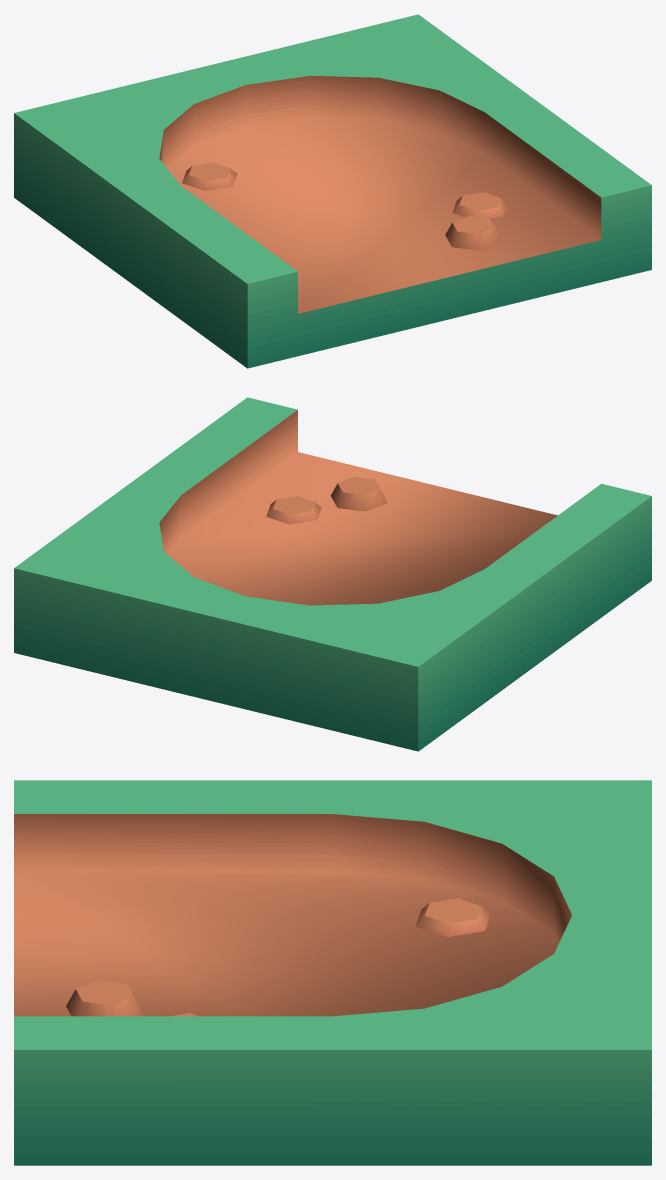
The model's file is tile-end-round.glb.
3 views of the same model, one above another, from view 1: azimuth 30°, elevation 25°; view 2: azimuth 150°, elevation 25°; view 3: azimuth 270°, elevation 25° (orthographic). The views are drawn at different scales.
Parts seen in each view (by area): view 1: tile-end-round; view 2: tile-end-round; view 3: tile-end-round.
Part boxes in pixels (x1=…): tile-end-round: x1=14, y1=14, x2=651, y2=368; tile-end-round: x1=14, y1=397, x2=651, y2=751; tile-end-round: x1=14, y1=780, x2=651, y2=1165.
Bounding box in the file's own units: 1 × 0.2 × 1.
1 material, 1 textured.
